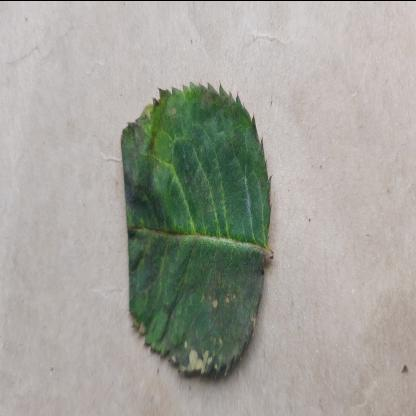powdery-mildew: (118, 72, 276, 382)
